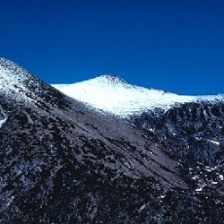neutral: (3, 10, 223, 224)
